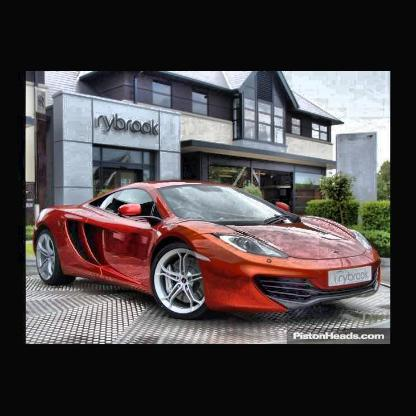McLaren MP4-12C Coupe 2012: (34, 179, 385, 320)
